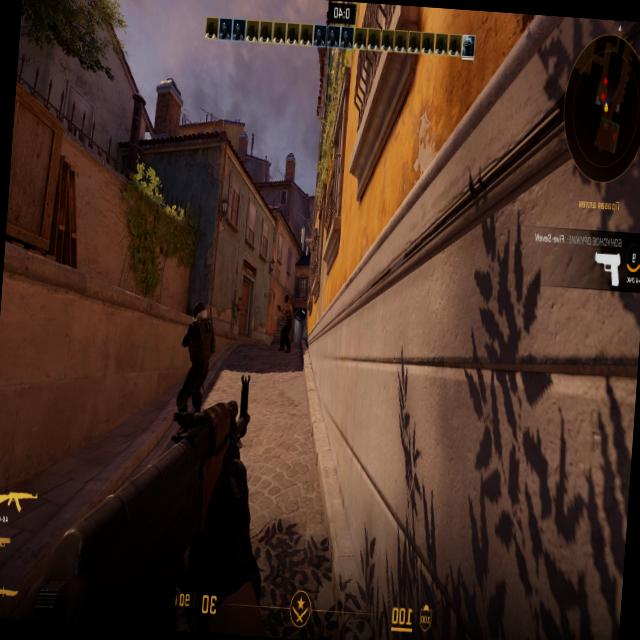CT: (185, 304, 212, 392)
CT_heat: (195, 304, 202, 325)
T: (280, 297, 292, 347)
T_heat: (284, 297, 288, 302)
